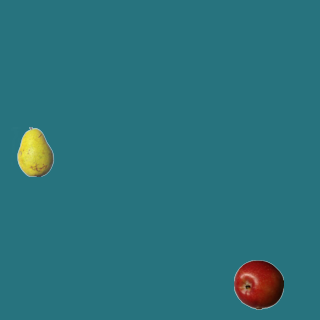Apple Braeburn: (233, 259, 283, 309)
Pear Monster: (10, 126, 60, 176)
